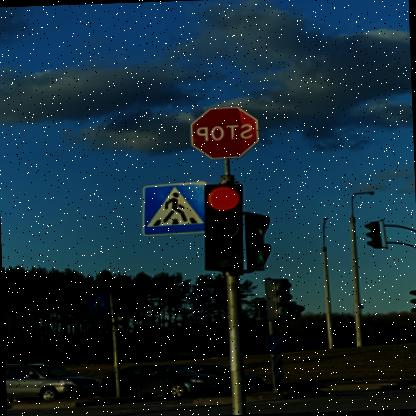crosswalk: (143, 180, 210, 235), (91, 290, 112, 312)
stop: (193, 105, 264, 158)
trafficlight: (205, 181, 250, 270), (266, 276, 308, 322), (249, 211, 274, 269), (365, 218, 389, 249), (410, 288, 415, 317)
